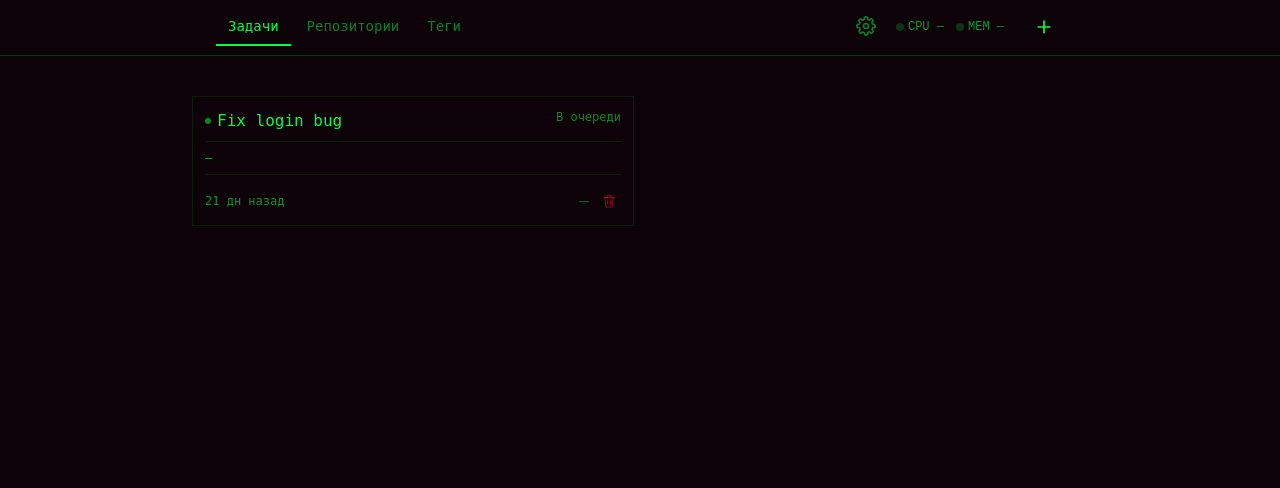
Test: App › opens the task detail when a task is clicked in the list
The image size is (1280, 488).
Click the text "Fix login bug": (280, 121) [217,109,342,133]
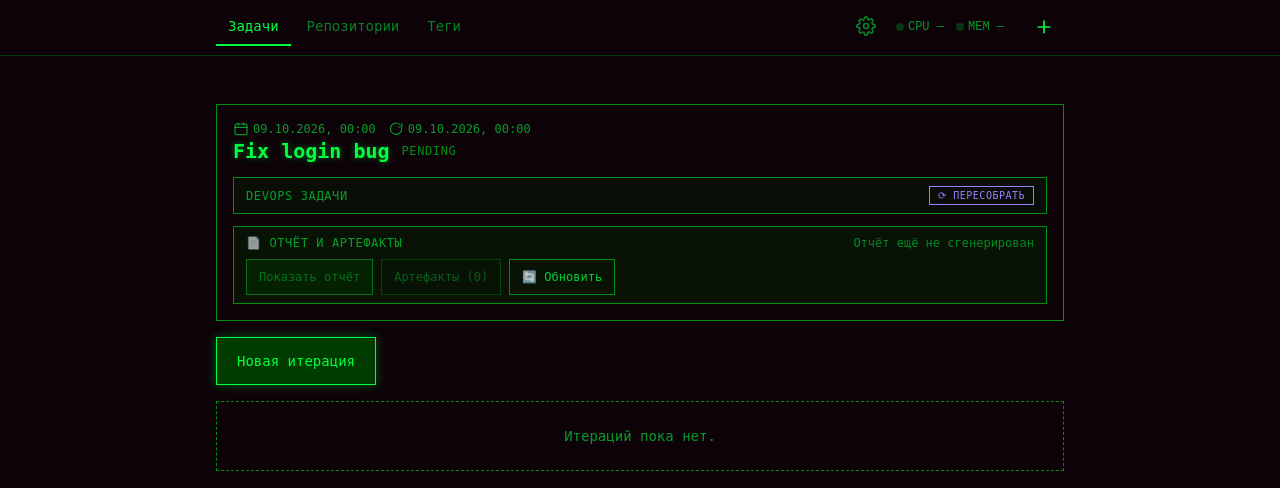
Expected: the text "Итераций пока нет." is shown, [216,401,1064,471]
Expected: the element with test id "task-island" is shown, [216,104,1064,321]
